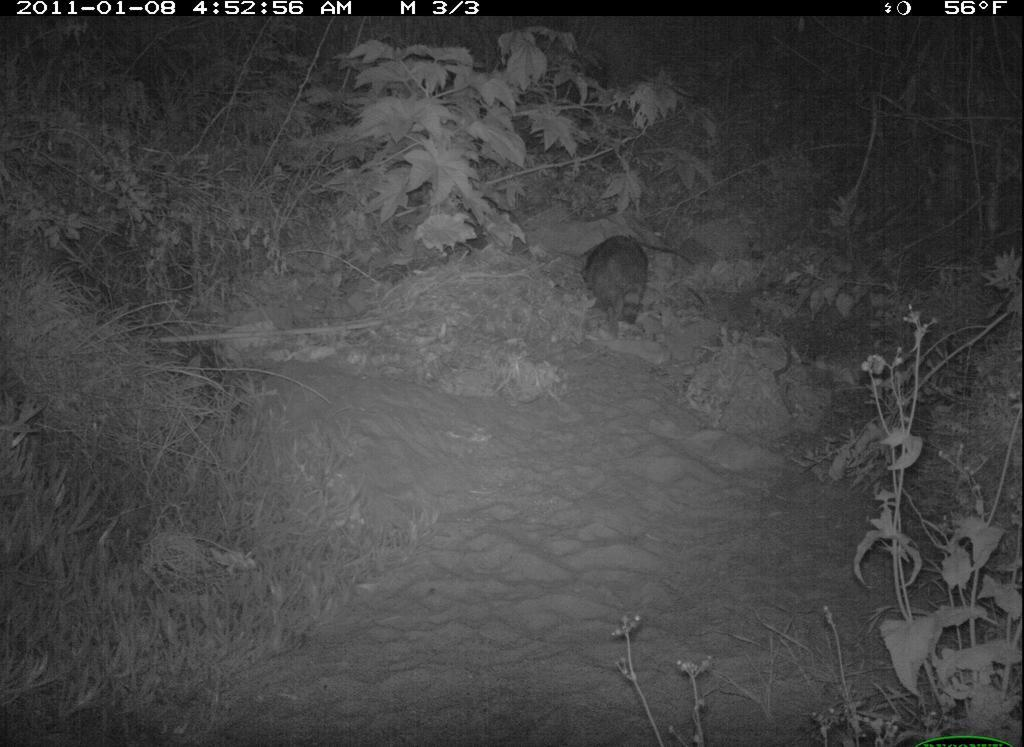raccoon: (583, 230, 655, 344)
